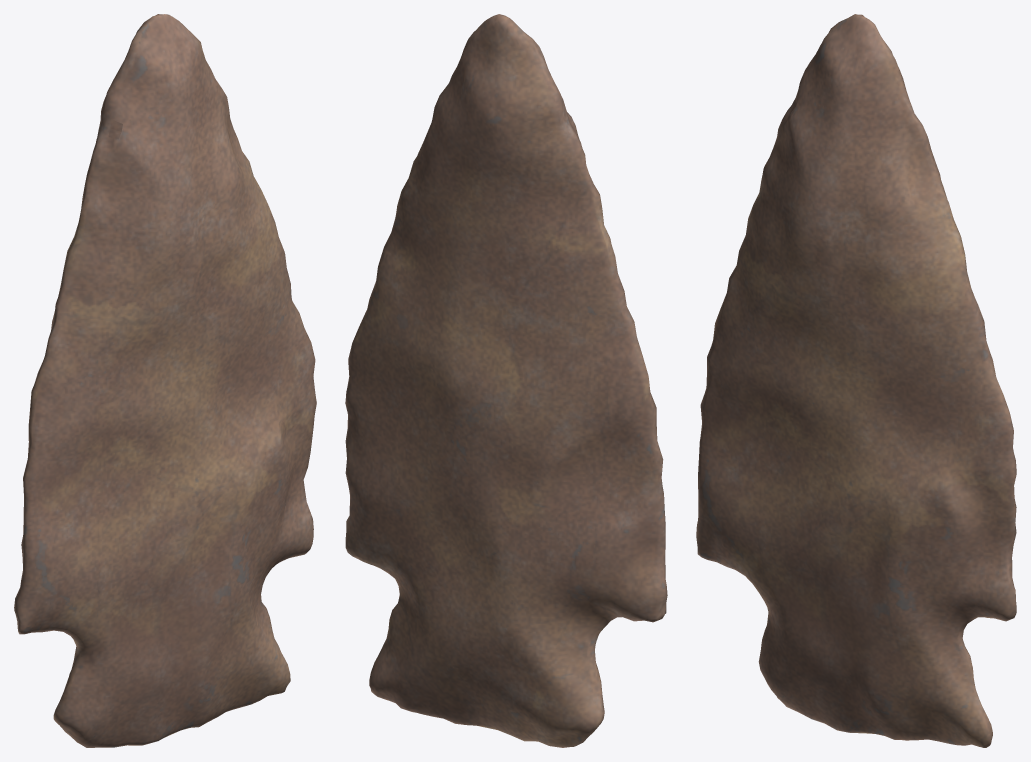
The model's file is ARROWHEAD.fbx.
3 renders of one model, left to right at view 1: azimuth 30°, elevation 25°; view 2: azimuth 150°, elevation 25°; view 3: azimuth 330°, elevation 25°, orthographic.
Visible parts, largest first — view 1: Tool; view 2: Tool; view 3: Tool.
Boxes of the visible parts, box(x1,y1,x2,y2) form: Tool: box(14, 14, 316, 747); Tool: box(345, 14, 667, 747); Tool: box(696, 14, 1016, 747).
Size of the model in its own units: 10.07 by 22.41 by 2.92.
1 material, 1 textured.
